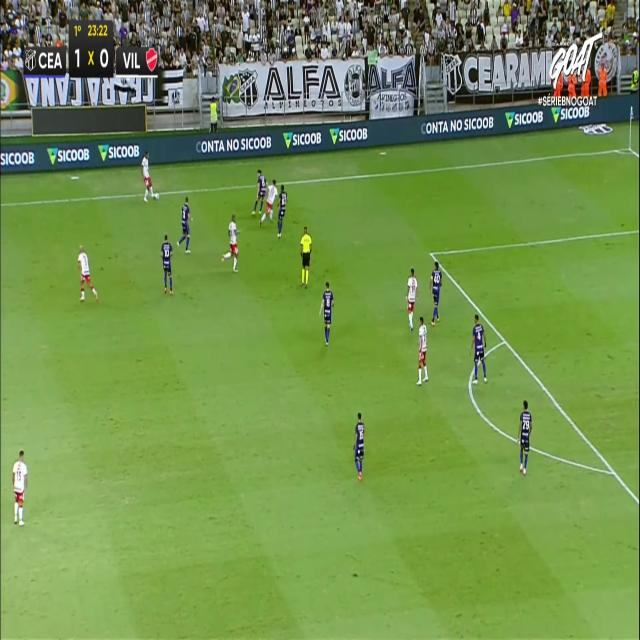ball: (154, 191, 159, 202)
player: (77, 244, 98, 302), (470, 315, 487, 383), (12, 449, 27, 525), (517, 399, 532, 473), (221, 213, 240, 271), (260, 178, 280, 224), (140, 150, 158, 201), (176, 195, 192, 252), (319, 281, 333, 345), (429, 260, 442, 325), (416, 315, 428, 385), (353, 412, 365, 480), (161, 233, 174, 294), (406, 266, 418, 330), (252, 168, 267, 216), (276, 183, 287, 237)
referee: (299, 226, 311, 287)
